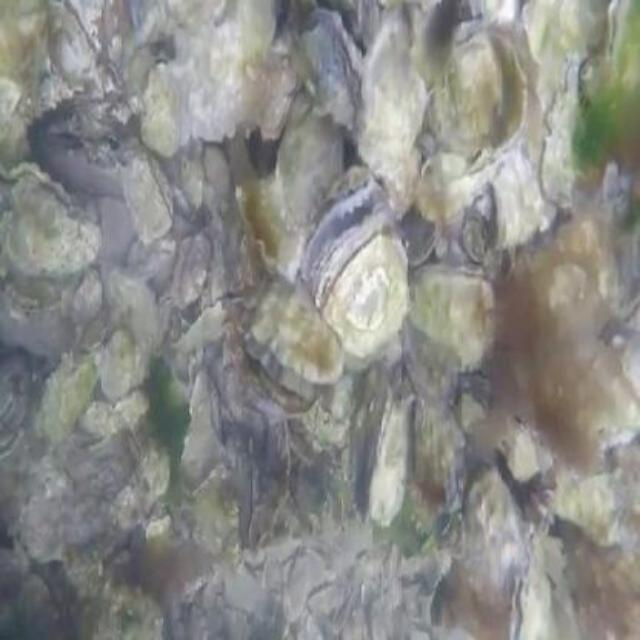Oyster-Closed: (526, 208, 616, 356), (357, 10, 426, 174), (275, 93, 346, 233), (535, 56, 599, 208), (462, 468, 528, 606), (412, 263, 494, 363), (236, 170, 309, 280), (299, 11, 364, 129), (414, 151, 505, 220), (370, 392, 409, 526), (555, 473, 626, 545), (509, 528, 553, 640), (73, 389, 150, 452), (121, 154, 174, 242), (89, 582, 163, 640), (0, 260, 78, 315), (256, 57, 302, 141), (0, 352, 32, 458), (100, 327, 135, 397), (387, 147, 420, 217), (128, 232, 177, 279), (403, 208, 442, 263), (181, 236, 212, 303), (607, 0, 634, 67), (73, 267, 102, 325), (172, 237, 196, 305), (470, 0, 519, 25), (155, 292, 173, 356), (80, 320, 108, 356), (143, 511, 173, 543), (417, 134, 434, 157)
Oyster-Open: (300, 166, 410, 359), (429, 18, 542, 153), (0, 161, 105, 280), (248, 274, 344, 400), (574, 347, 640, 450), (49, 0, 99, 89)
